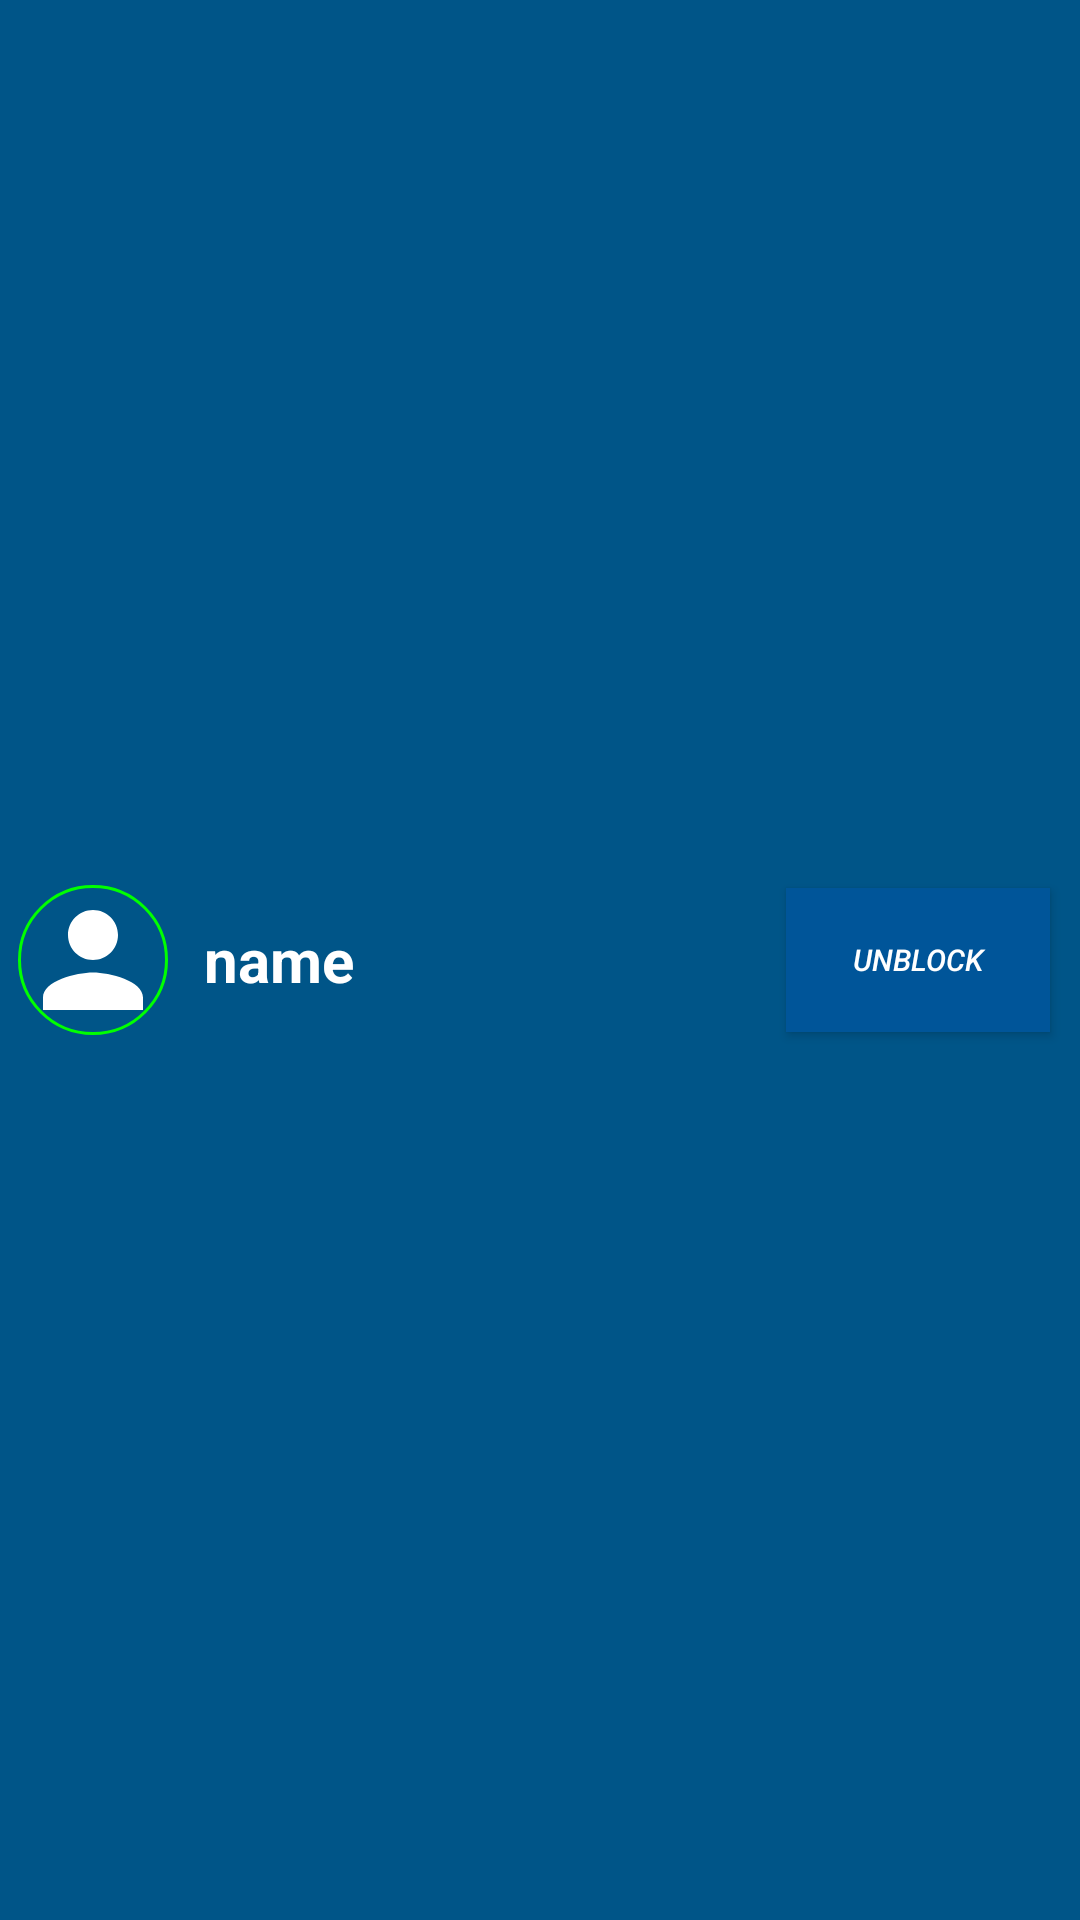

Icon bounding boxes for this 1080w x 1920h phone screenshot, format [x1,y1,x2,y2]:
person: [18,885,168,1035]
